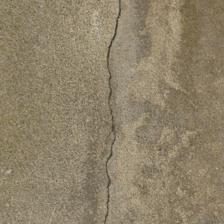Crack: (48, 2, 80, 222)
